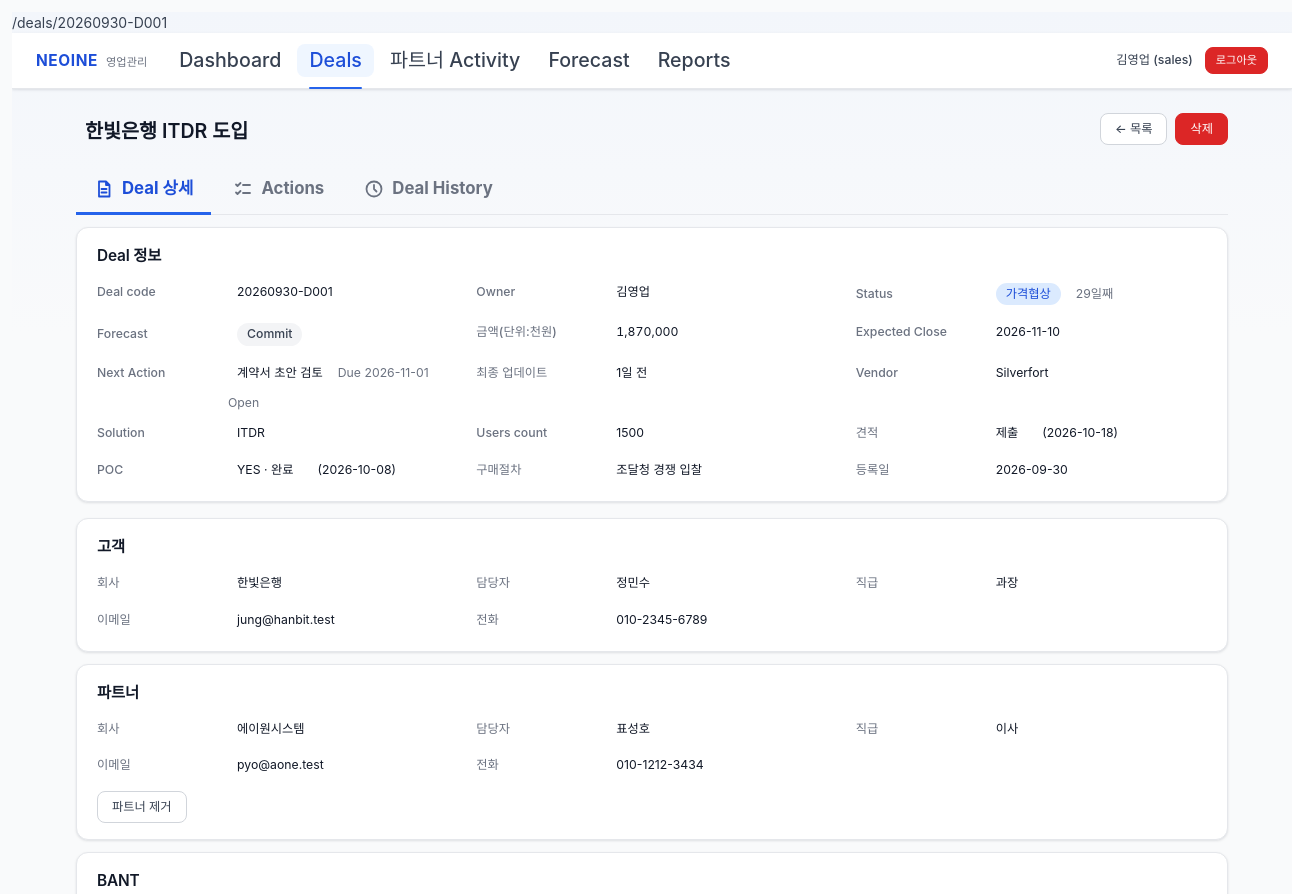
값 클릭 → 입력기 (Enter 저장 / Esc 취소 / 키보드) › keeps the editor open with the message when validation fails on Enter
Step 1. Click the button titled "Deal 이름 수정" → (167, 132), box left=76, top=113, right=257, bottom=150
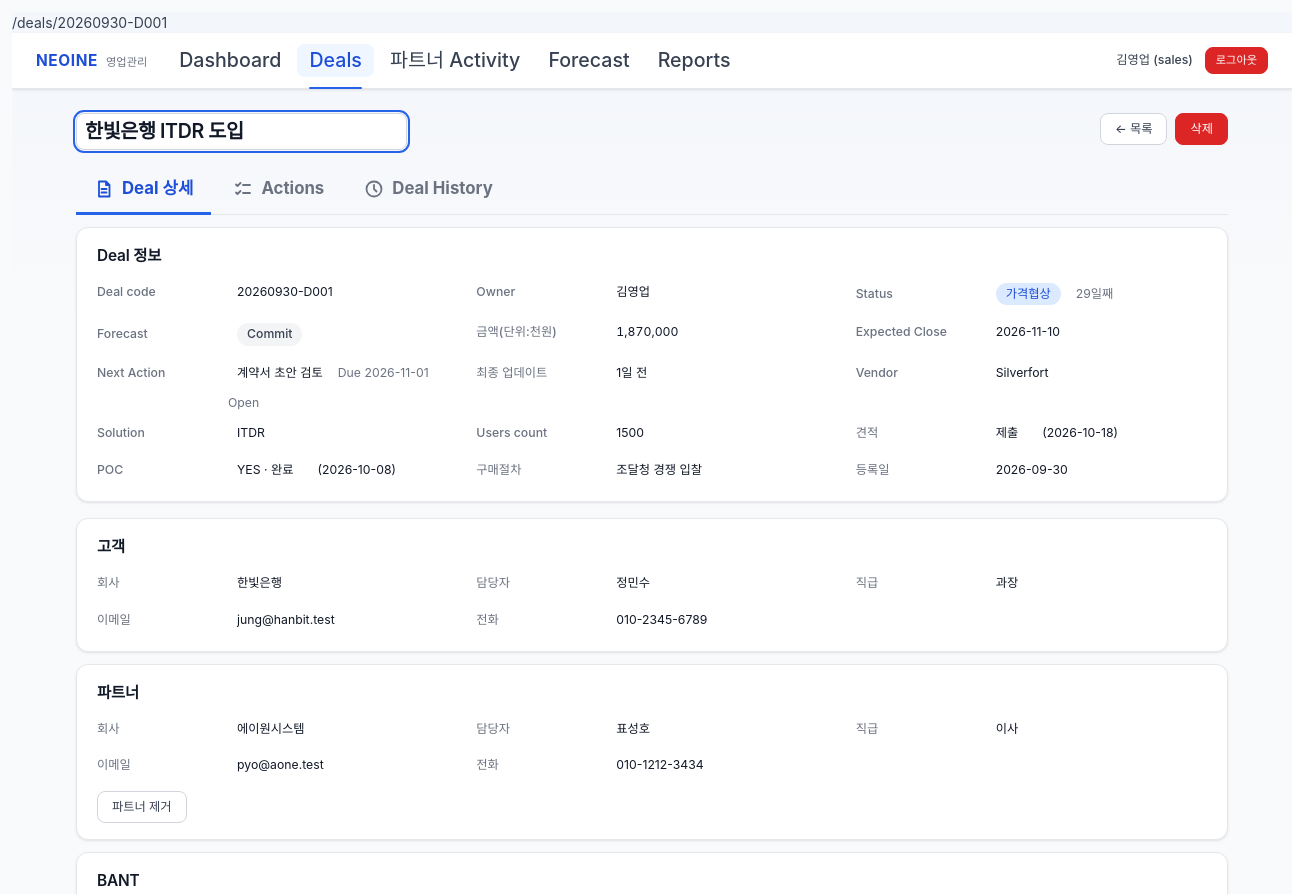
Step 2. Clear the field named "Deal 이름" → (242, 132), box left=76, top=113, right=407, bottom=150
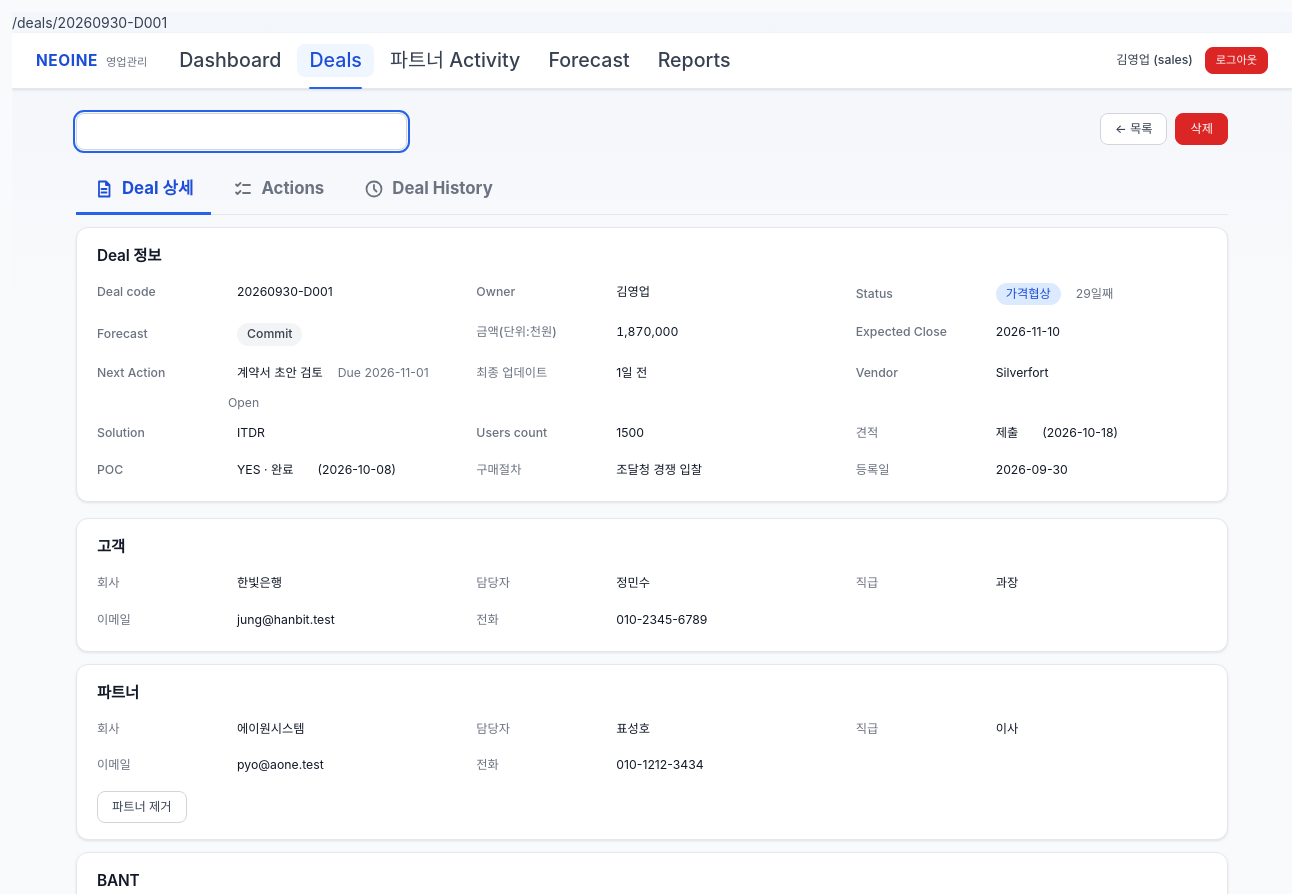
Step 3. Press Enter
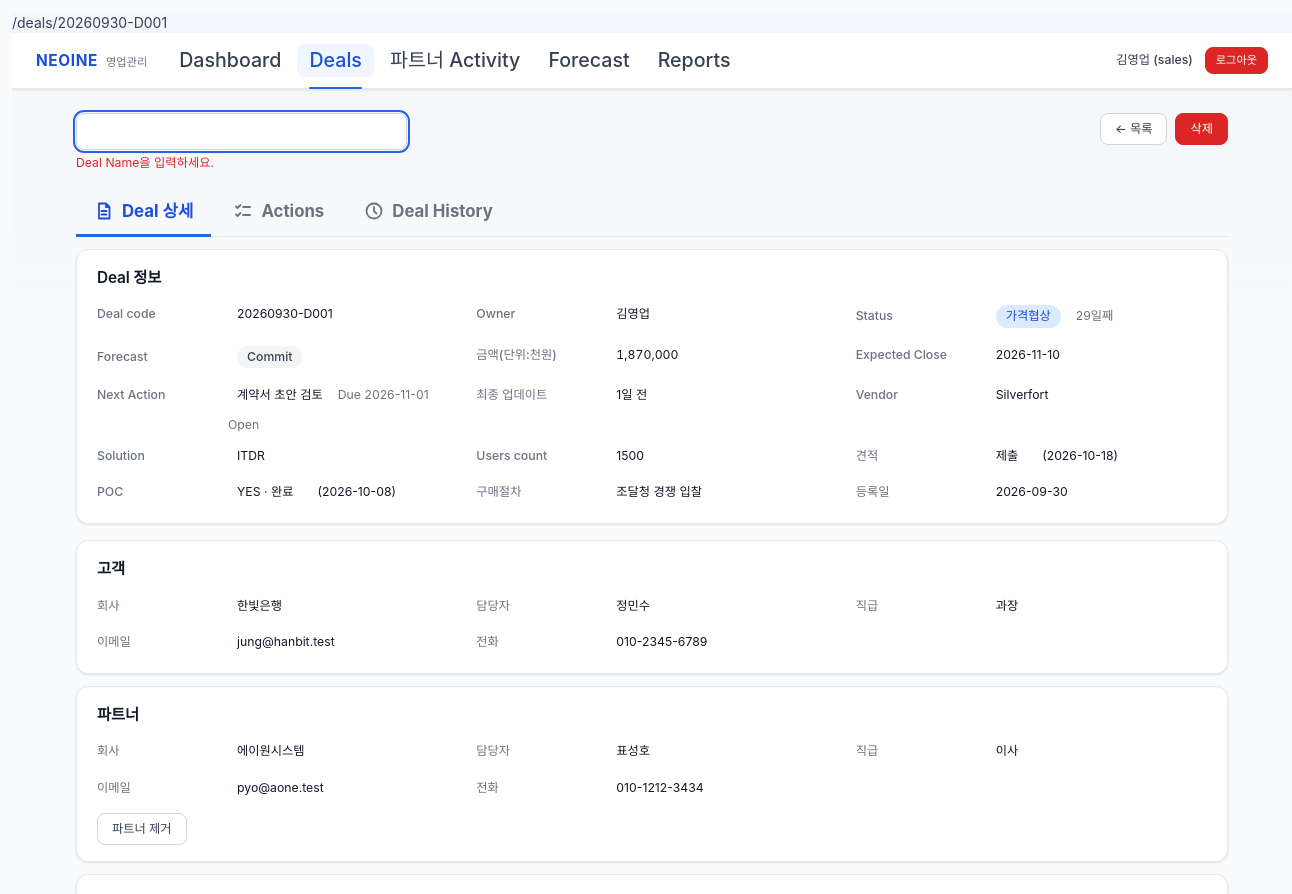
Now the message reads "Deal Name을 입력하세요.", box left=76, top=156, right=214, bottom=170
